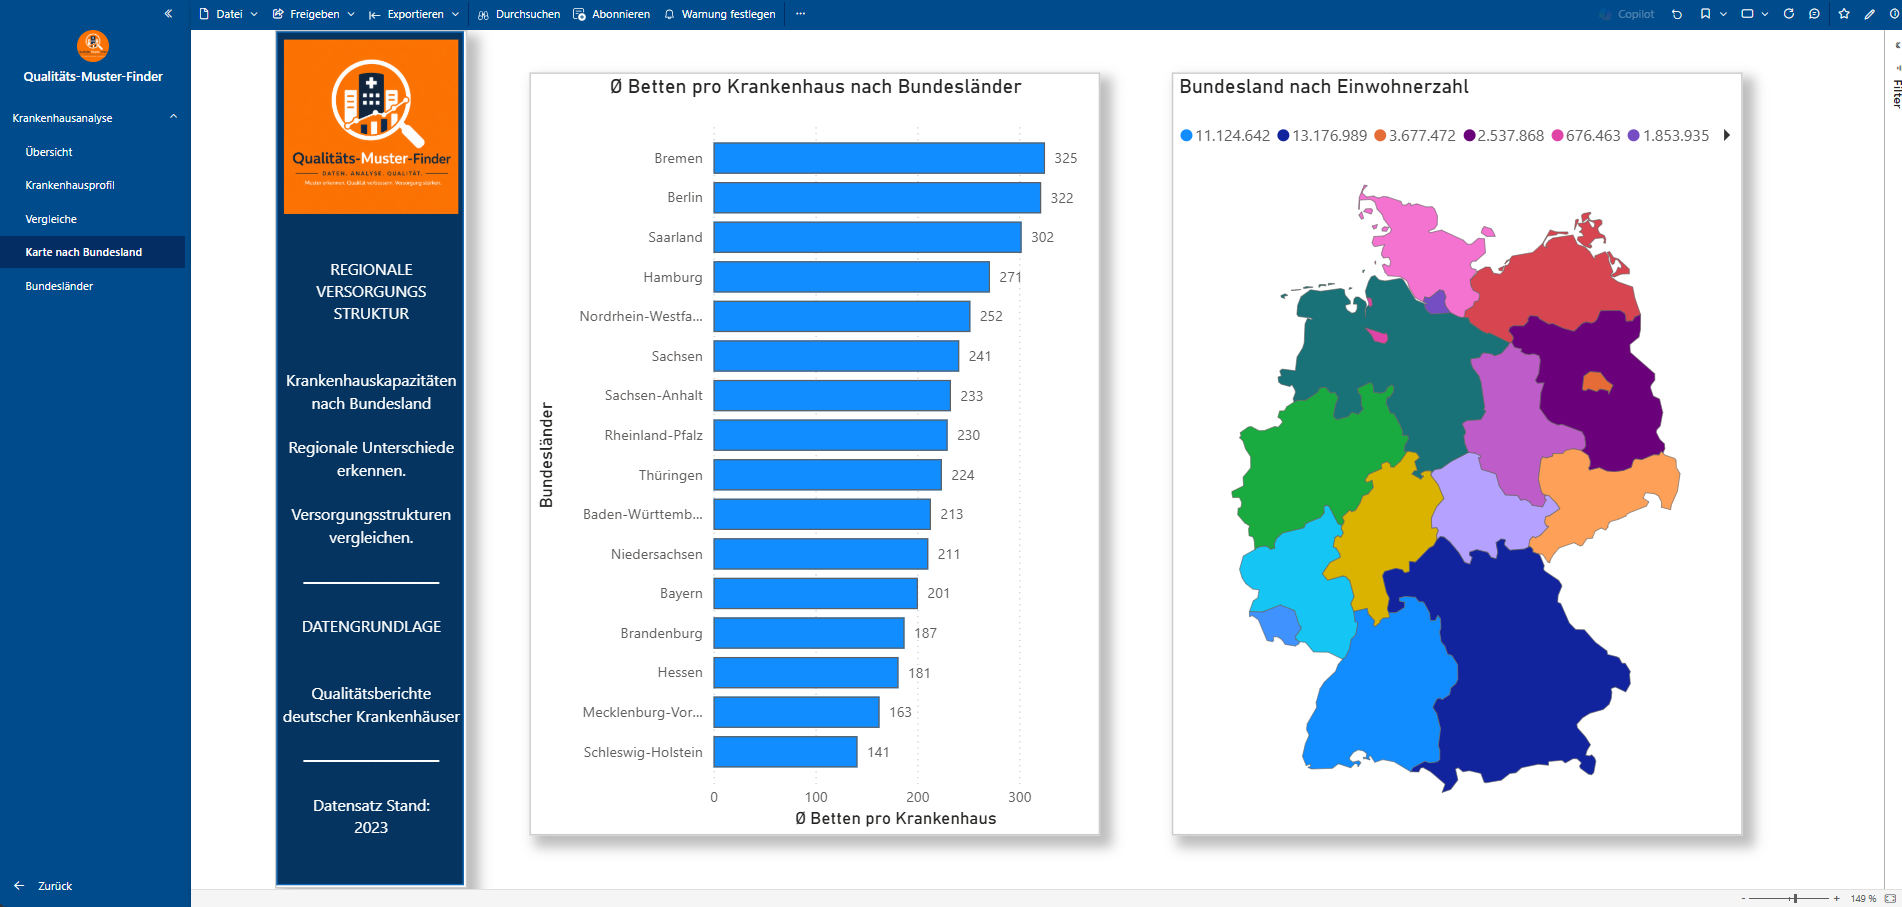

Layout of this report page (visuals, bound fields, positions):
{"tool":"powerbi","page":{"name":"Karte nach Bundesland","canvas":[1280,720],"ordinal":5},"visuals":[{"type":"shape","box":[0,0,161.1,720],"z":0},{"type":"image","box":[0,7.9,161.1,146.5],"z":1000},{"type":"textbox","box":[0,166.4,161.6,553],"z":2000},{"type":"clusteredBarChart","fields":{"Category":["SO.SO.Bundesland"],"Y":["Berechnungen.Ø Betten pro Krankenhaus"]},"box":[213.1,35.8,478.2,640.3],"z":3000},{"type":"shapeMap","title":"Bundesland nach Einwohnerzahl","fields":{"Category":["SO.SO.Bundesland"],"Series":["SO.Einwohnerzahl Anzeige"]},"box":[752.2,35.8,478.2,640.3],"z":4000}]}

Visuals, with their boxes on the page's 1280x720 design canvas (x1, y1, x2, y2). These are canvas units, not pixel positions in the 1902x907 screenshot, which may show the page scaled, cropped or inside an application window:
shape: 0, 0, 161, 720
image: 0, 8, 161, 154
textbox: 0, 166, 162, 719
clusteredBarChart - SO.SO.Bundesland x Berechnungen.Ø Betten pro Krankenhaus: 213, 36, 691, 676
"Bundesland nach Einwohnerzahl" shapeMap: 752, 36, 1230, 676
